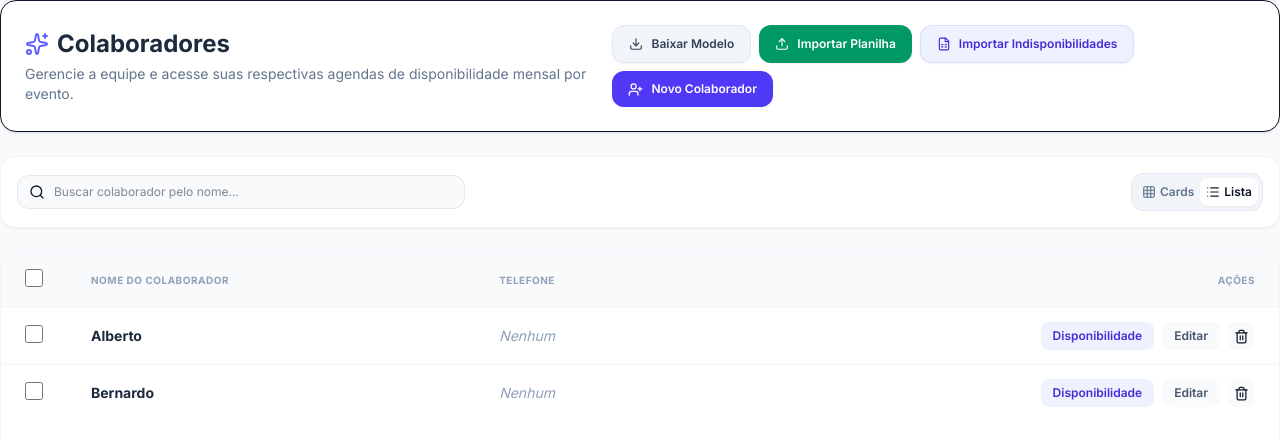
Test: Colaboradores Component › deve pesquisar colaboradores por nome
expect the text "Alberto" is shown: met, box [67,308,475,364]
expect the text "Bernardo" is shown: met, box [67,364,475,421]
Pesquisar por "Alb"
Type "Alb" into the field with placeholder "Buscar colaborador pelo nome...".
click(241, 192); type("Alb")  # box [17,175,465,209]
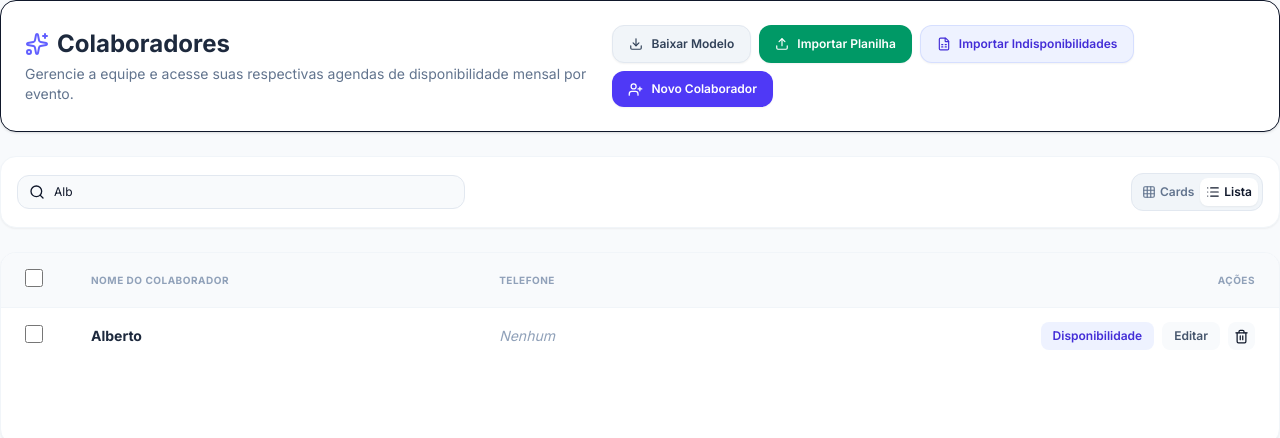
expect the text "Alberto" is shown: met, box [67,308,475,364]
expect the text "Bernardo" is gone: met
